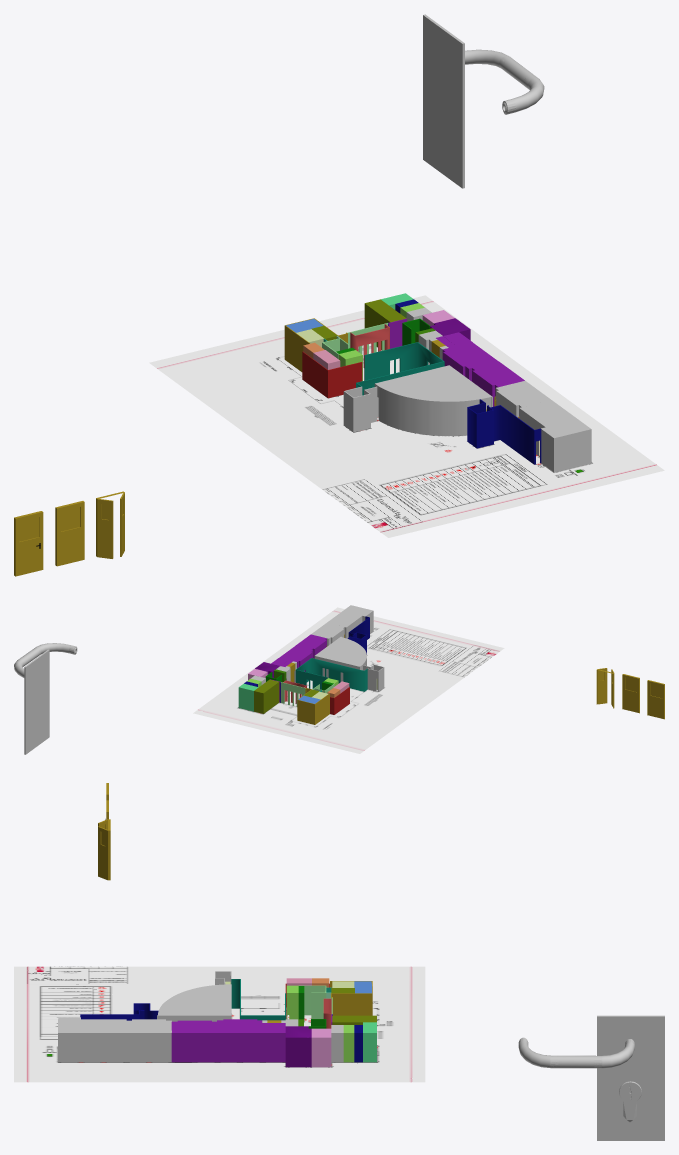
The picture shows the model from 3 angles, top to bottom: view 1: azimuth 30°, elevation 25°; view 2: azimuth 150°, elevation 25°; view 3: azimuth 270°, elevation 25°; orthographic projection. The views are drawn at different scales.
Parts seen in each view (by area): view 1: Plantilla, Cylinder003, object 32, Cafe_Cocina, Box004, Box008, PivotDoor001, PivotDoor013, Wall006, PivotDoor002, Box007, B_1_y_B_2 (+3 smaller); view 2: Plantilla, Cylinder003, Box008, object 32, Cafe_Cocina, Wall007, Sala_de_Conferencias, PivotDoor013, PivotDoor001, PivotDoor002, Box007, B_5_y_B_6 (+6 smaller); view 3: Plantilla, Cylinder003, Cafe_Cocina, object 32, B_1_y_B_2, B_5_y_B_6, B3_y_B4, Sala_de_lectura, Wall007, Aseos, JunasLectura, PivotDoor002 (+4 smaller).
Part boxes in pixels (x1,y1,x2,y2): Plantilla: (149, 295, 664, 537); Cylinder003: (423, 14, 544, 188); object 32: (374, 365, 492, 435); Cafe_Cocina: (519, 400, 591, 472); Box004: (467, 399, 541, 464); Box008: (356, 342, 444, 395); PivotDoor001: (55, 501, 84, 566); PivotDoor013: (14, 511, 43, 576); Wall006: (302, 351, 362, 398); PivotDoor002: (96, 491, 124, 558); Box007: (343, 386, 377, 432); B_1_y_B_2: (442, 342, 498, 381); Plantilla: (193, 607, 504, 753); Cylinder003: (14, 643, 77, 754); Box008: (295, 658, 367, 691); object 32: (314, 636, 366, 681); Cafe_Cocina: (327, 605, 373, 638); Wall007: (297, 688, 329, 724); Sala_de_Conferencias: (254, 679, 279, 713); PivotDoor013: (647, 680, 664, 719); PivotDoor001: (622, 674, 639, 713); PivotDoor002: (596, 668, 614, 708); Box007: (363, 664, 384, 691); B_5_y_B_6: (311, 623, 344, 646); Plantilla: (14, 966, 425, 1082); Cylinder003: (518, 1015, 664, 1140); Cafe_Cocina: (58, 1017, 126, 1062); object 32: (157, 984, 231, 1021); B_1_y_B_2: (217, 1019, 262, 1062); B_5_y_B_6: (126, 1019, 171, 1062); B3_y_B4: (171, 1020, 216, 1062); Sala_de_lectura: (285, 1026, 311, 1067); Wall007: (330, 981, 372, 1015); Aseos: (262, 1026, 285, 1062); JunasLectura: (311, 1028, 331, 1067); PivotDoor002: (98, 819, 110, 880).
Bounding box in the file's own units: 1117 × 199 × 935.
